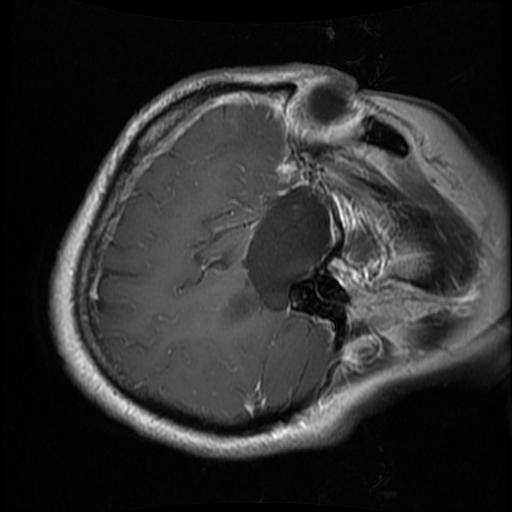glioma: (243, 183, 331, 313)
